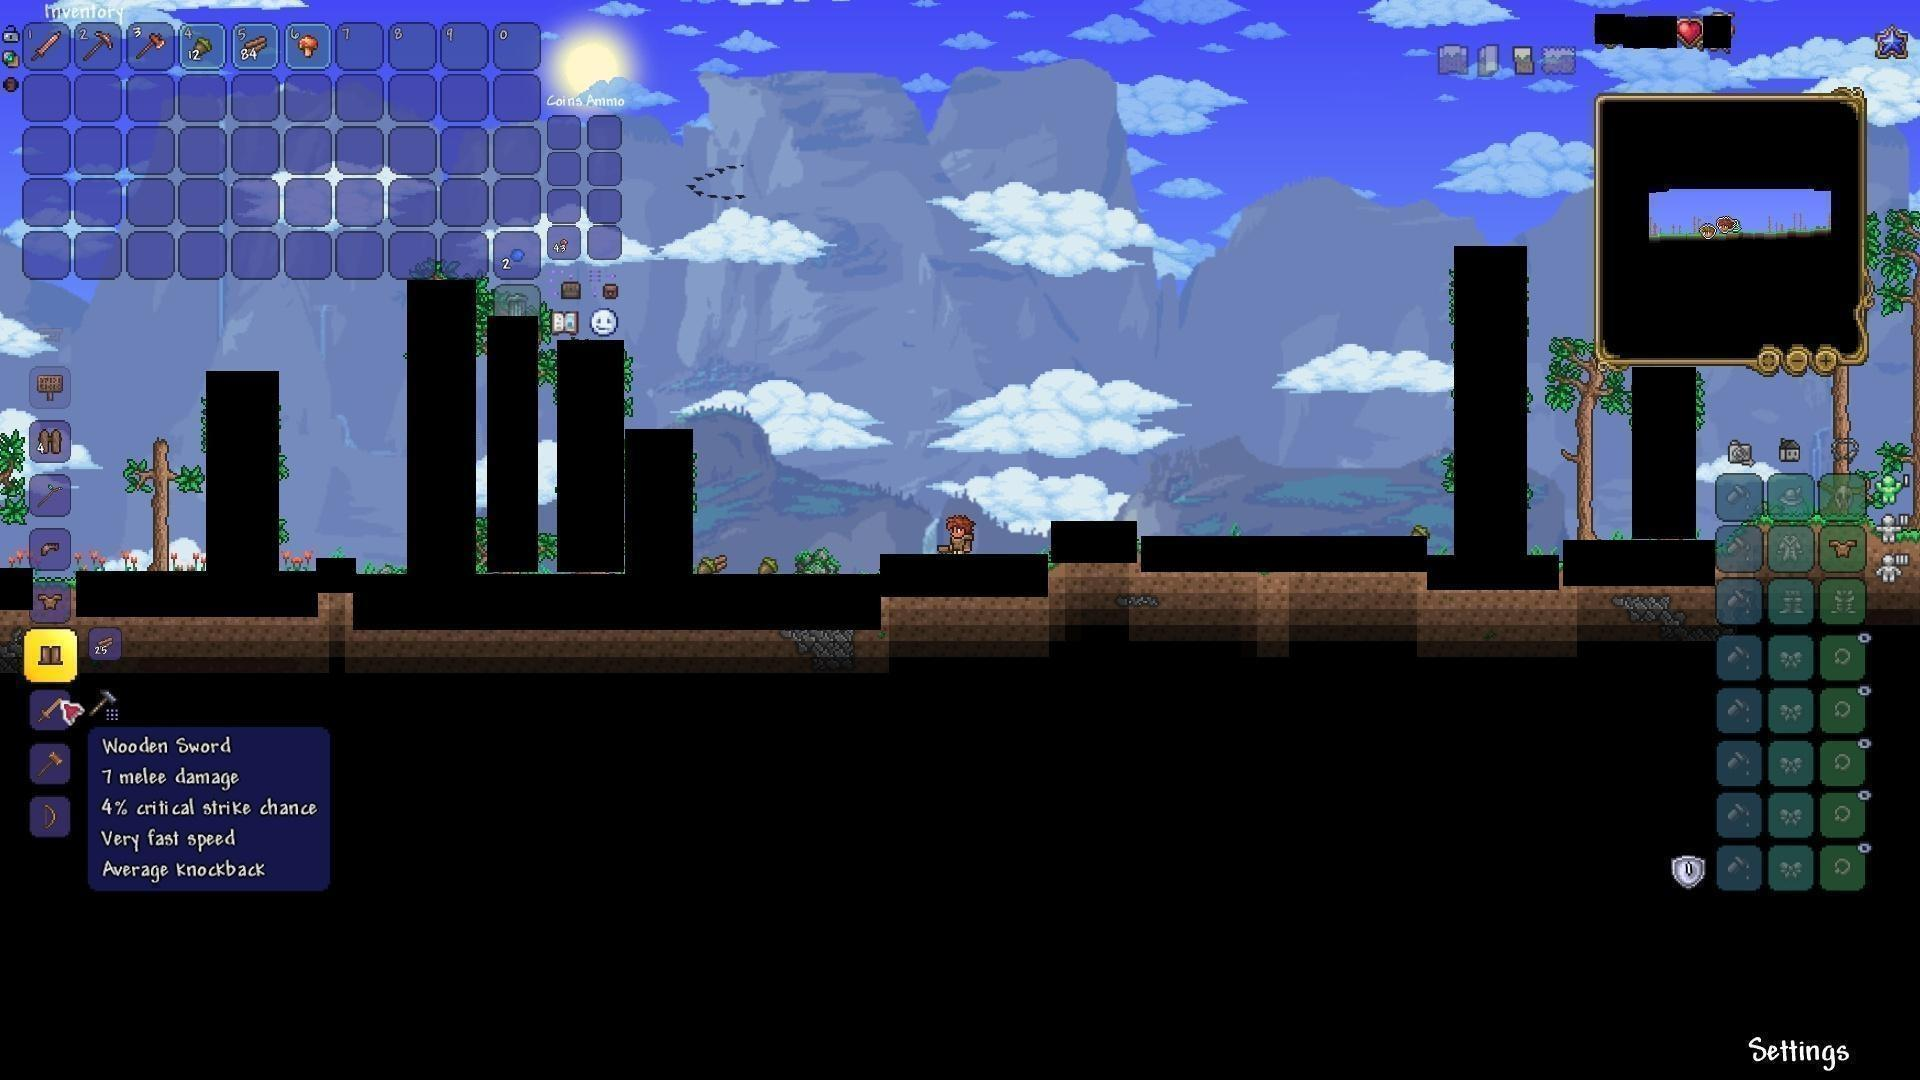breastplate: (37, 591, 65, 615), (1830, 538, 1858, 560)
heart: (1676, 17, 1704, 47)
helmet: (38, 537, 62, 560)
legs: (37, 642, 67, 665)
tree: (1548, 343, 1607, 537), (131, 433, 179, 570)
wood: (239, 29, 272, 59), (90, 632, 123, 661), (707, 553, 728, 580)
